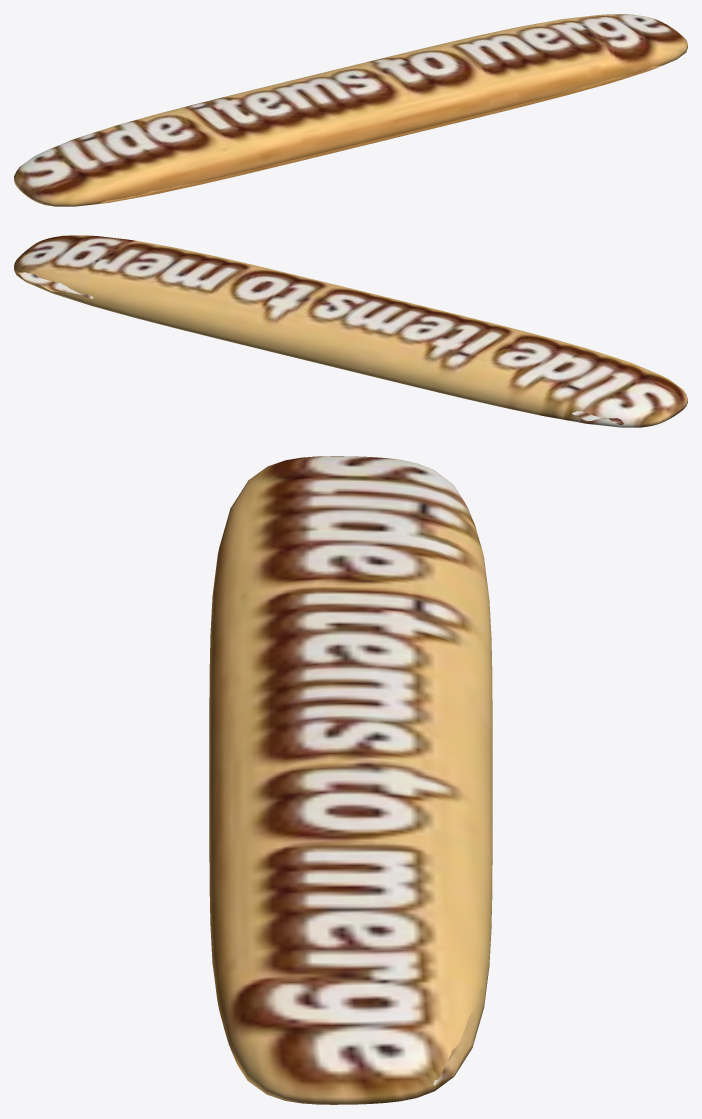
The model's file is Prop_HeaderSign.fbx.
3 views of the same model, one above another, from view 1: azimuth 30°, elevation 25°; view 2: azimuth 150°, elevation 25°; view 3: azimuth 270°, elevation 25° (orthographic). The views are drawn at different scales.
Visible parts, largest first — view 1: Catalog_Prop_HeaderSign; view 2: Catalog_Prop_HeaderSign; view 3: Catalog_Prop_HeaderSign.
Boxes of the visible parts, box(x1,y1,x2,y2) form: Catalog_Prop_HeaderSign: box(14, 14, 687, 206); Catalog_Prop_HeaderSign: box(14, 235, 687, 427); Catalog_Prop_HeaderSign: box(209, 456, 492, 1104).
Size of the model in its own units: 3.93 by 0.2196 by 0.7389.
1 material, 1 textured.
